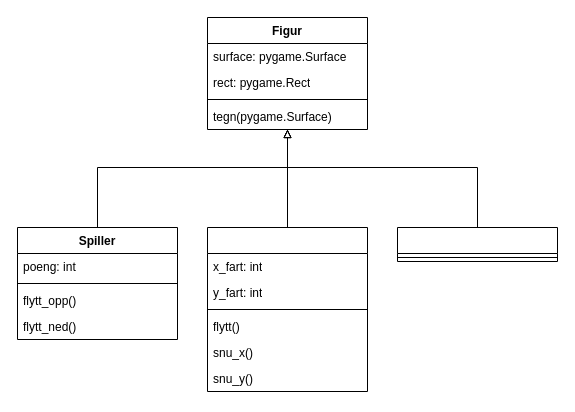
Image size: 575x412. Some labels were removed from this diagram. The box of each missing label's shape, as (x1, y1, x2, y2) in pixels:
Ball: (206, 226, 368, 392)
Hinder: (396, 226, 558, 262)
